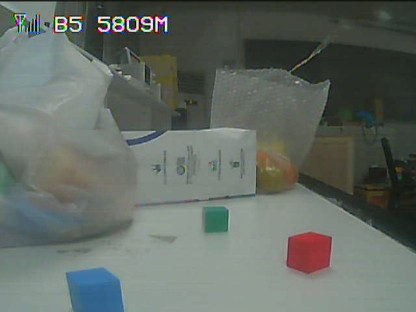b: (69, 271, 120, 310)
g: (204, 206, 227, 231)
r: (289, 232, 329, 268)
